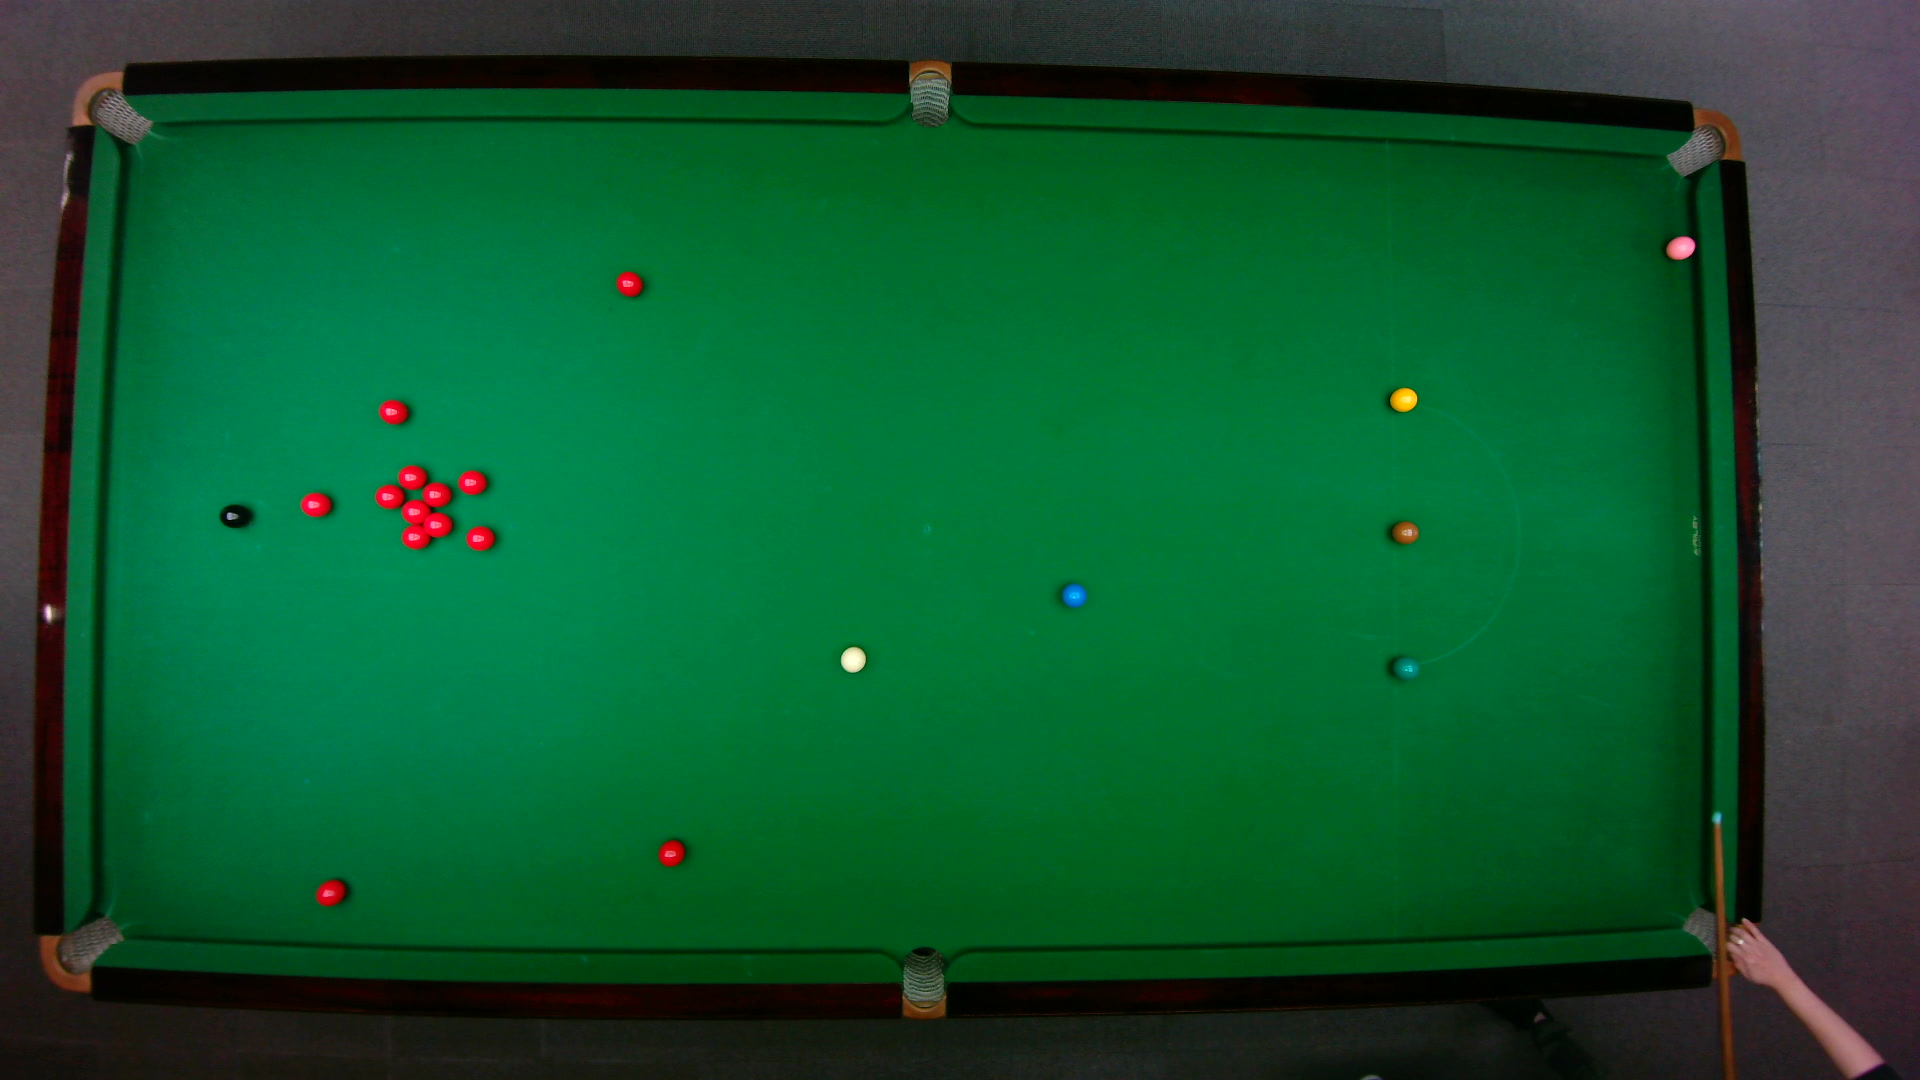bag: (37, 913, 125, 992), (69, 69, 153, 145), (1663, 107, 1741, 177), (1681, 905, 1745, 982), (901, 945, 944, 1021), (909, 57, 949, 128)
black: (218, 502, 251, 527)
blue: (1058, 582, 1087, 608)
brown: (1389, 520, 1419, 545)
cue: (1714, 819, 1734, 1077)
green: (1390, 654, 1419, 680)
pink: (1663, 233, 1697, 261)
red: (314, 877, 347, 906), (298, 489, 332, 517), (396, 463, 429, 491), (421, 510, 452, 538), (464, 524, 496, 551), (419, 480, 452, 506), (372, 483, 406, 508), (655, 837, 684, 866), (615, 269, 644, 297), (377, 398, 407, 425), (456, 468, 487, 495), (400, 497, 429, 524), (400, 525, 430, 549)
white: (837, 644, 866, 673)
yellow: (1387, 385, 1418, 411)
zone: (1389, 401, 1519, 666)
